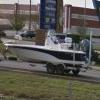Boat: (6, 28, 91, 77)
